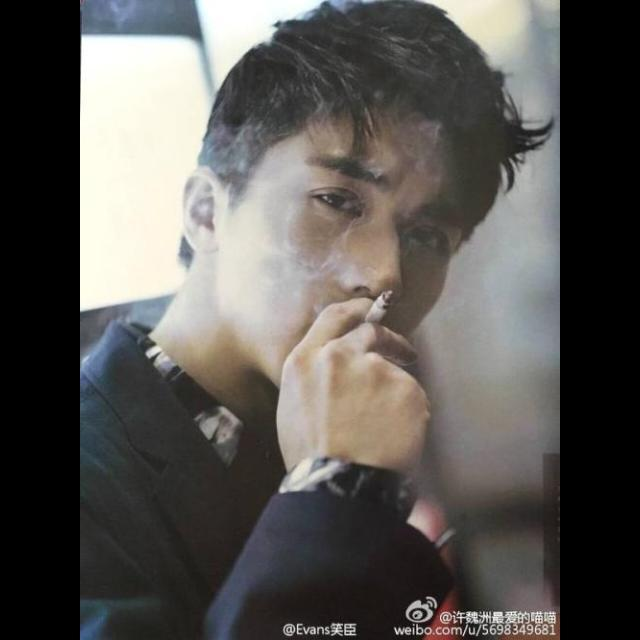rokok: (356, 284, 396, 330)
